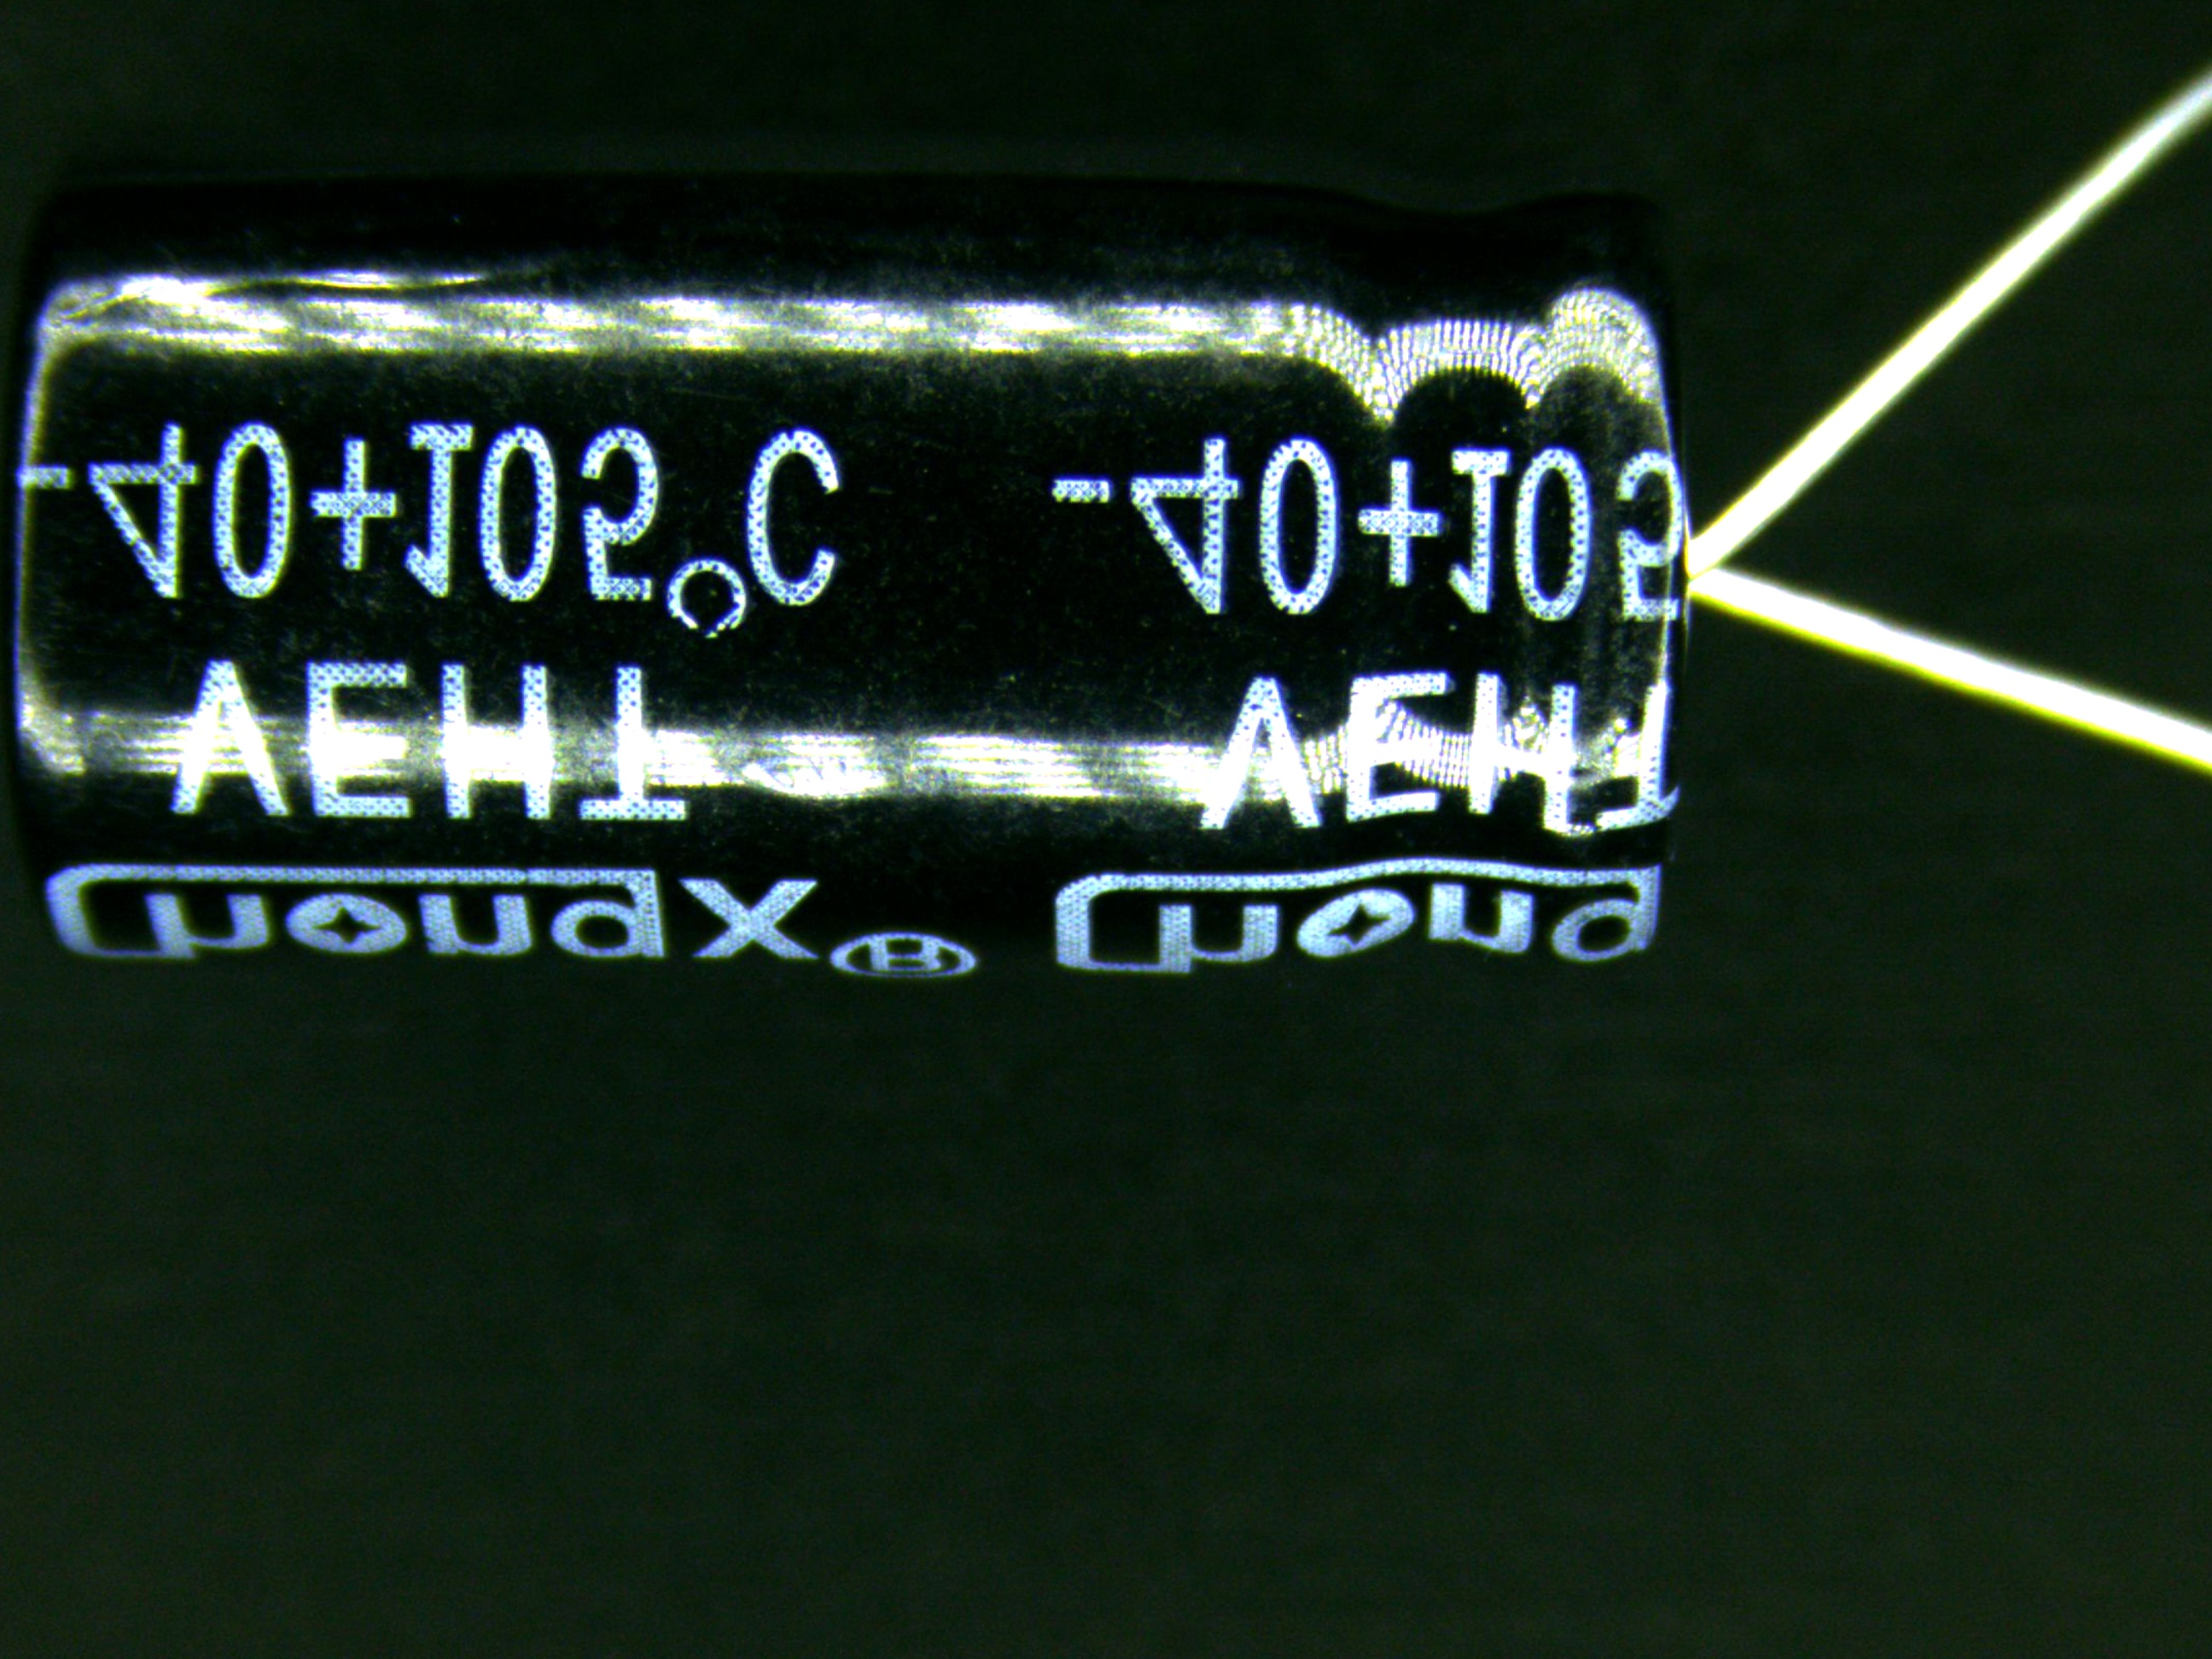c3: (0, 188, 2048, 974)
